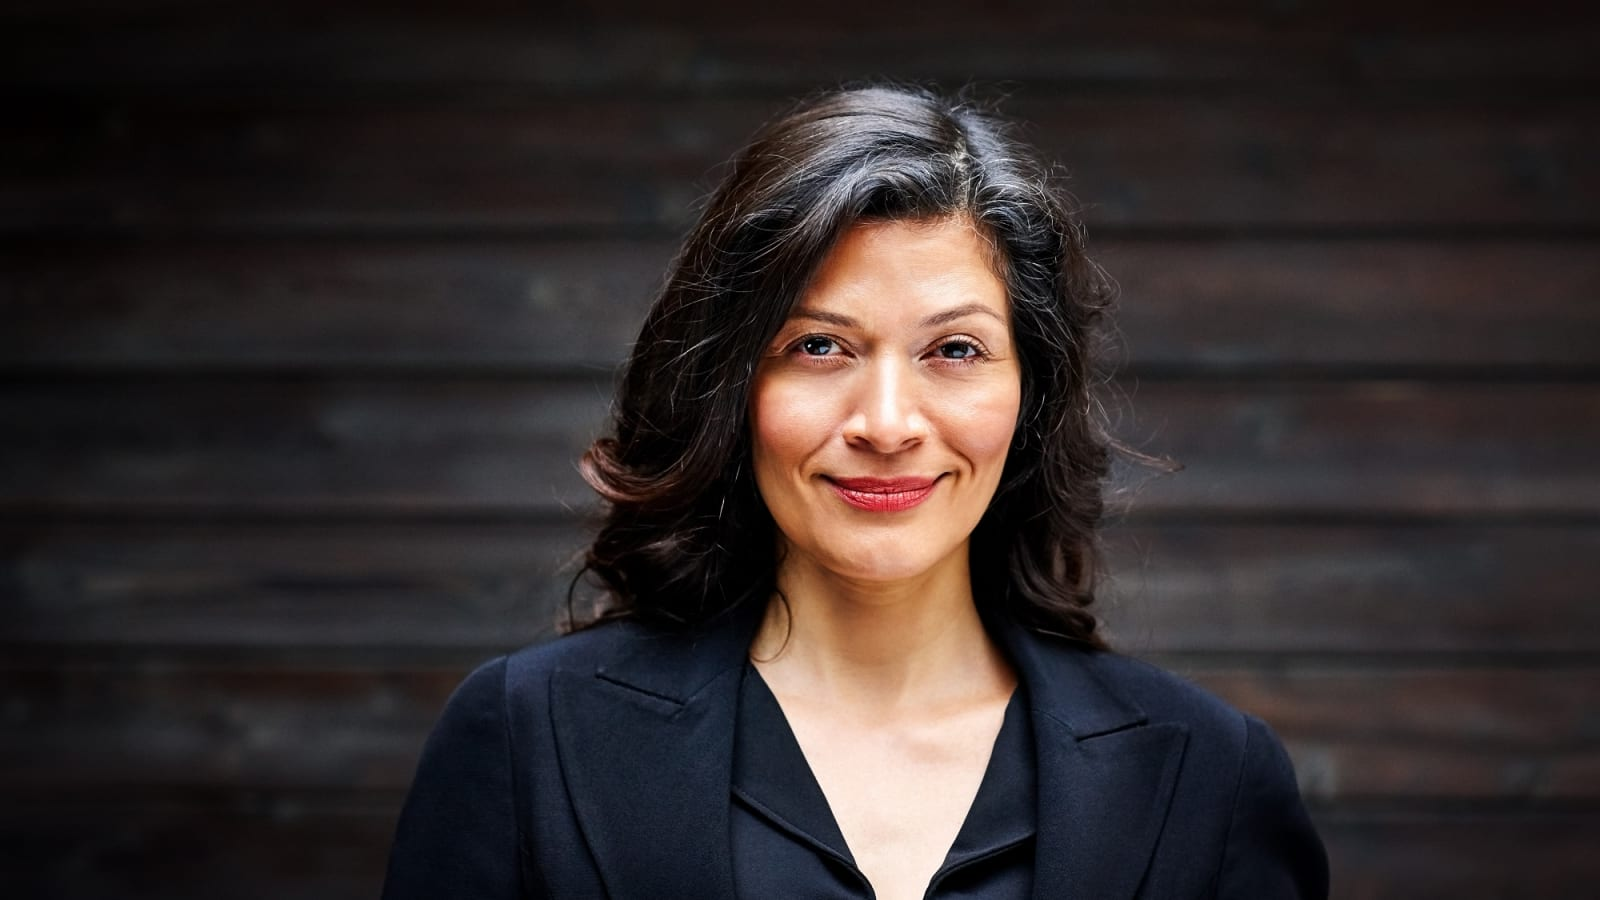bare: (751, 394, 1016, 571)
